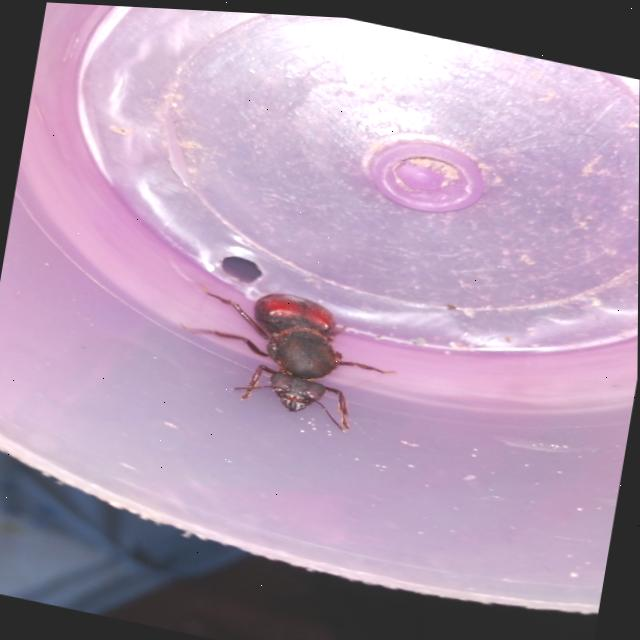Alive-Female-Dealate: (168, 270, 406, 438)
